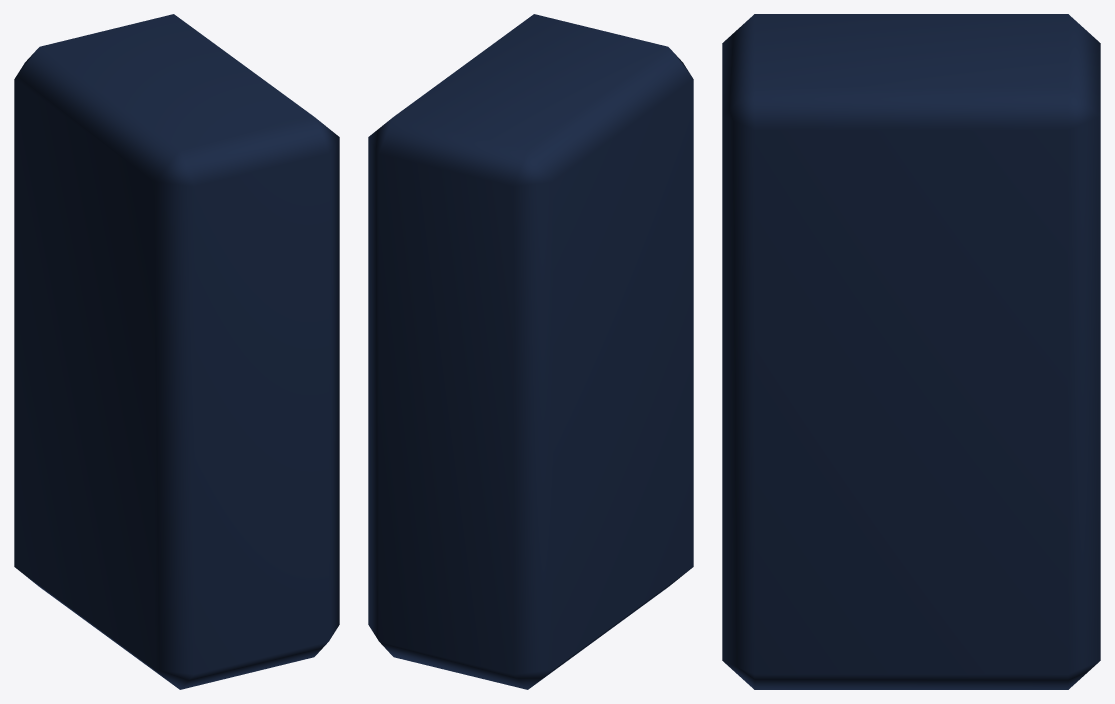
Rendered from NT_Wall_EndCap.fbx.
3 views of the same model, side by side, from view 1: azimuth 30°, elevation 25°; view 2: azimuth 150°, elevation 25°; view 3: azimuth 270°, elevation 25° (orthographic). The views are drawn at different scales.
Parts seen in each view (by area): view 1: NT_Wall_EndCap__WallMesh; view 2: NT_Wall_EndCap__WallMesh; view 3: NT_Wall_EndCap__WallMesh.
Part boxes in pixels (x1,y1,x2,y2): NT_Wall_EndCap__WallMesh: (14,14,339,689); NT_Wall_EndCap__WallMesh: (368,14,693,689); NT_Wall_EndCap__WallMesh: (722,14,1100,689).
Bounding box in the file's own units: 0.44 × 1.23 × 0.7.
